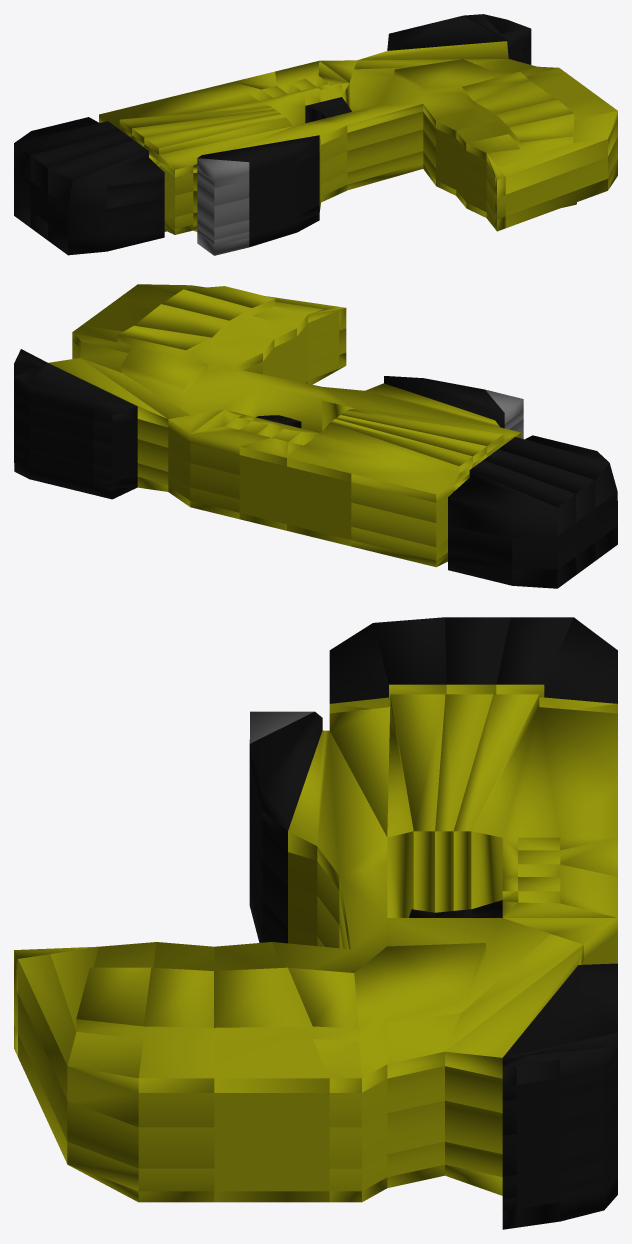
The model's file is taser.FBX.
The picture shows the model from 3 angles, top to bottom: view 1: azimuth 30°, elevation 25°; view 2: azimuth 150°, elevation 25°; view 3: azimuth 270°, elevation 25°; orthographic projection. The views are drawn at different scales.
Parts seen in each view (by area): view 1: Box002; view 2: Box002; view 3: Box002.
Boxes of the visible parts, x1,y1,x2,y2 form: Box002: (14,14,617,255); Box002: (14,284,617,588); Box002: (14,617,617,1229).
Bounding box in the file's own units: 32.63 × 5.33 × 17.99.
